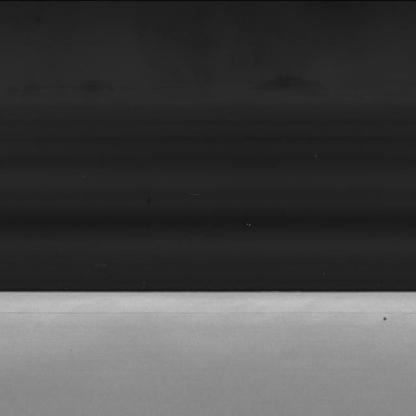inclusion: (378, 312, 395, 322)
